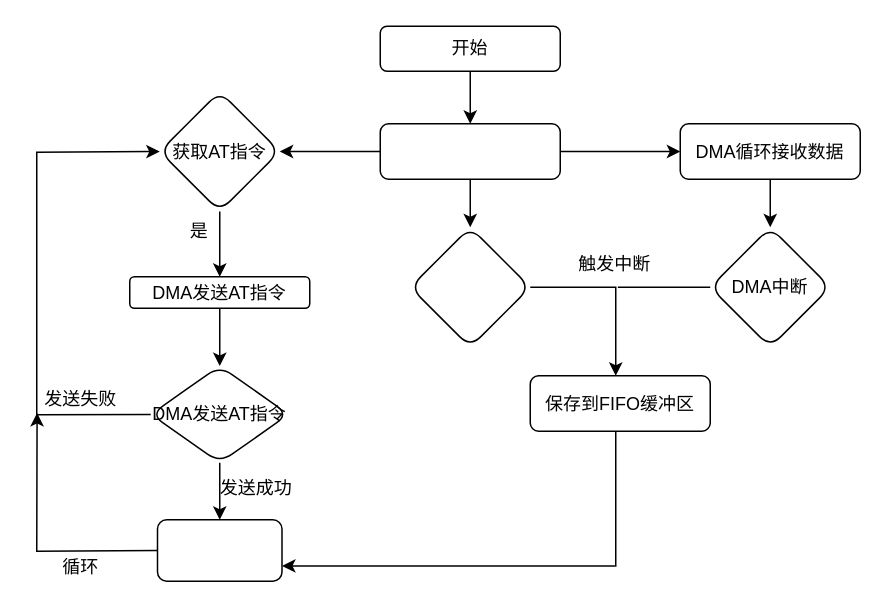
This 887x614 diagram has some shape labels left out. Here are the shapes that lost their labels. From the top down, the box of each, then its label:
(379, 122, 560, 179): 初始化串口及DMA
(409, 226, 530, 347): 串口空闲中断
(156, 518, 282, 581): 处理wifi数据
